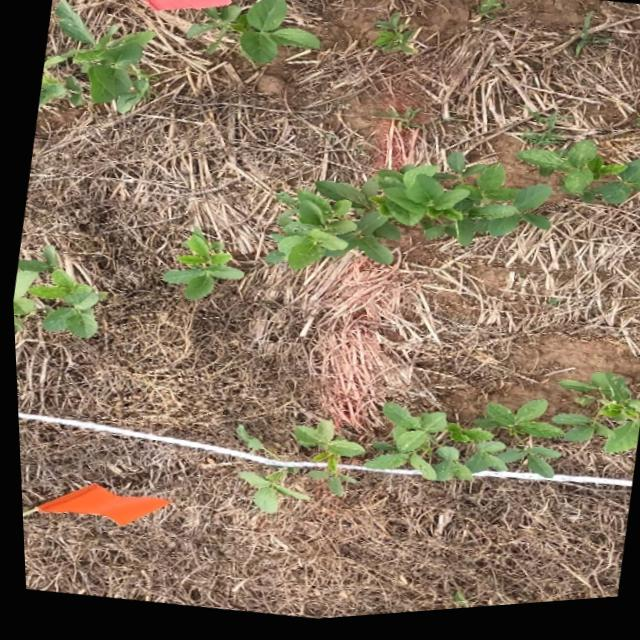grassy_weed: (514, 118, 561, 154), (572, 21, 609, 65), (376, 113, 416, 133)
soy_plant: (263, 159, 548, 273), (361, 382, 638, 487), (37, 2, 150, 113), (186, 0, 317, 68), (10, 247, 98, 339), (520, 149, 640, 213), (160, 232, 239, 303), (289, 424, 360, 500), (235, 471, 298, 515), (372, 19, 416, 59), (476, 0, 501, 22), (233, 432, 259, 453)
